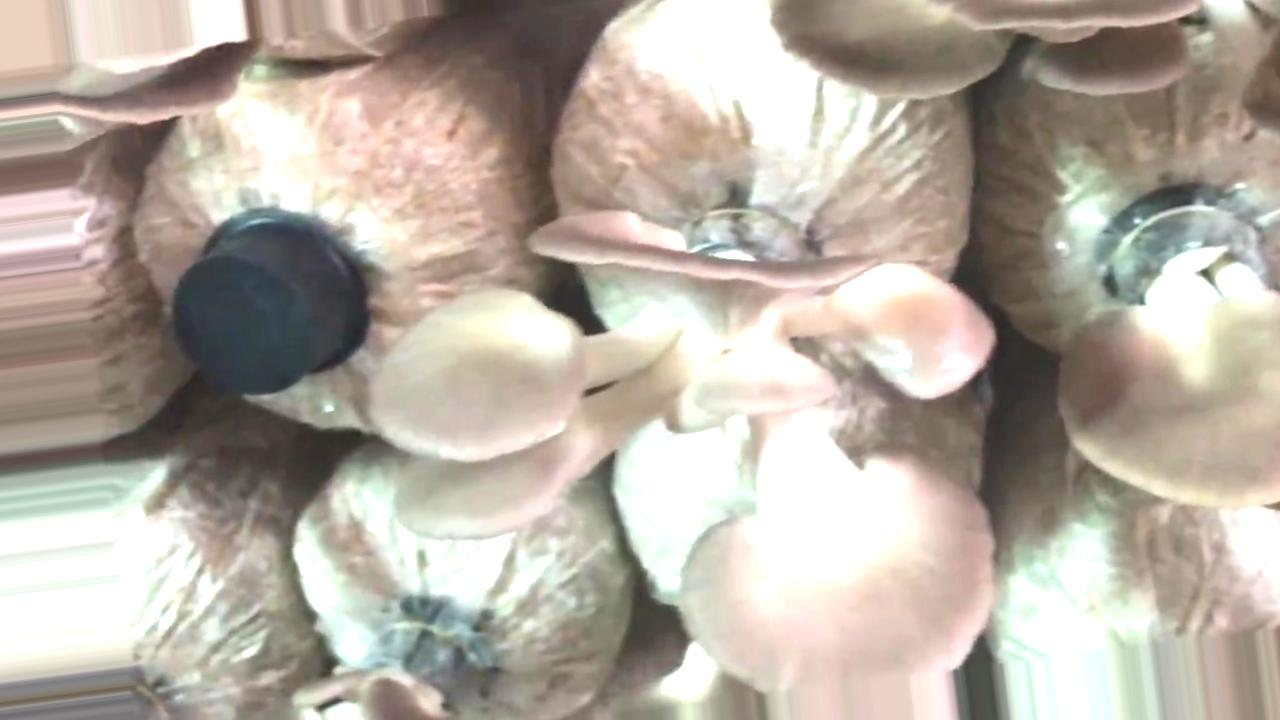nam: (363, 209, 999, 695), (1057, 187, 1280, 507), (773, 5, 1207, 106)
